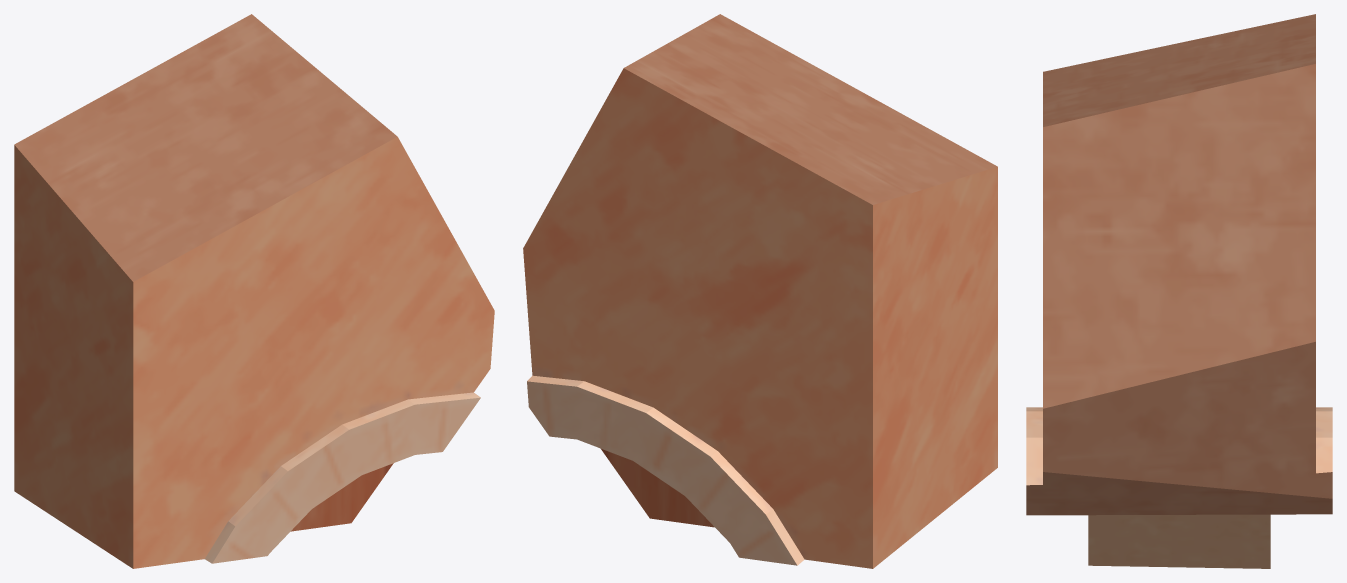
Rendered from towngate_s03.fbx.
The picture shows the model from 3 angles, left to right: view 1: azimuth 30°, elevation 25°; view 2: azimuth 150°, elevation 25°; view 3: azimuth 270°, elevation 25°; orthographic projection. The views are drawn at different scales.
Parts seen in each view (by area): view 1: towngate_s03; view 2: towngate_s03; view 3: towngate_s03.
Boxes of the visible parts, x1=… form: towngate_s03: x1=14, y1=14, x2=494, y2=568; towngate_s03: x1=523, y1=14, x2=997, y2=568; towngate_s03: x1=1026, y1=14, x2=1332, y2=568.
Size of the model in its own units: 5.26 by 6.15 by 3.36.
